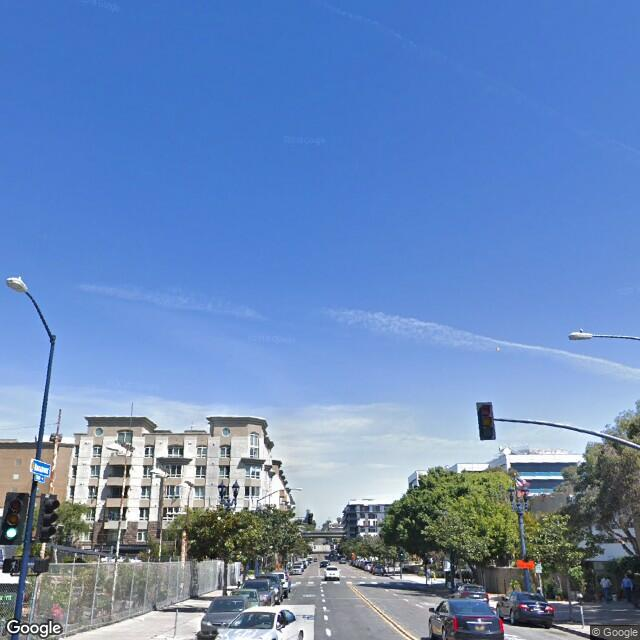light: (4, 271, 29, 298), (569, 330, 599, 345)
